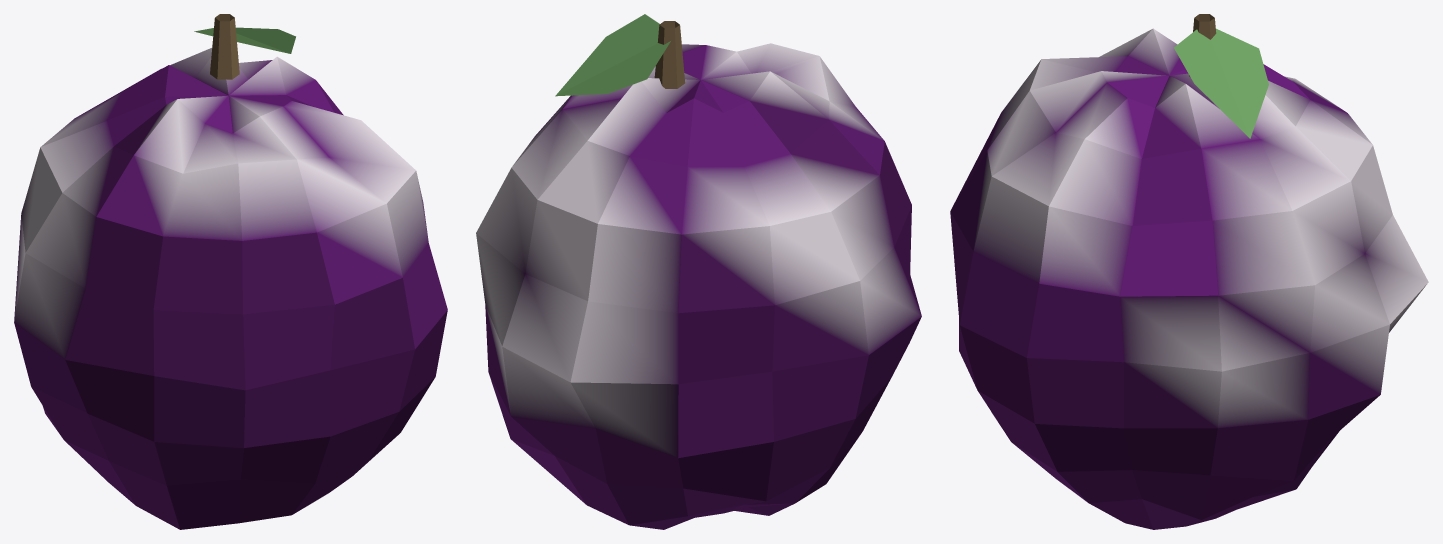
File: Sugar_Plum.glb
3 views of the same model, side by side, from view 1: azimuth 30°, elevation 25°; view 2: azimuth 150°, elevation 25°; view 3: azimuth 270°, elevation 25° (orthographic). The views are drawn at different scales.
Parts seen in each view (by area): view 1: Sugar_Plum; view 2: Sugar_Plum; view 3: Sugar_Plum.
Boxes of the visible parts, x1,y1,x2,y2 form: Sugar_Plum: [14, 14, 447, 529]; Sugar_Plum: [476, 14, 921, 529]; Sugar_Plum: [950, 14, 1428, 529].
Bounding box in the file's own units: 0.3375 × 0.4203 × 0.3714.
